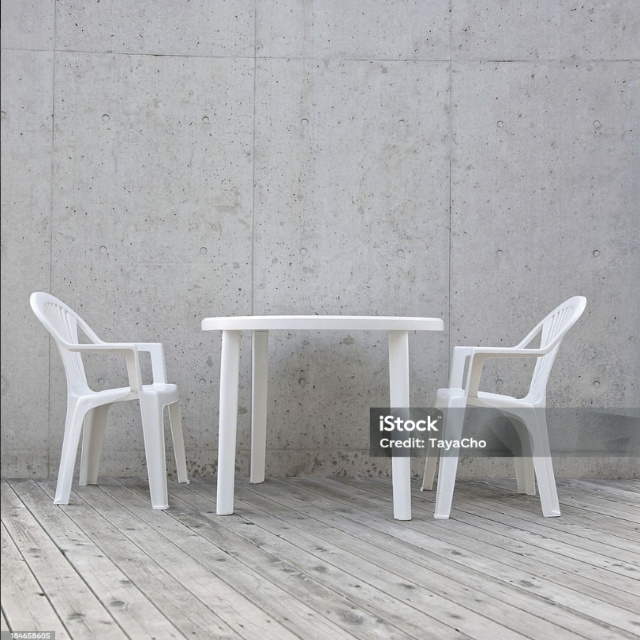obstacle: (200, 310, 436, 527), (24, 287, 193, 512), (429, 292, 590, 517)
